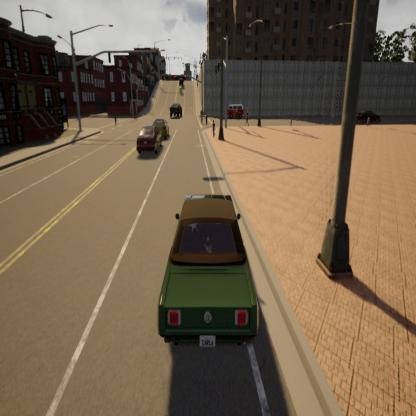Cars: (155, 186, 264, 359), (136, 123, 163, 156), (350, 106, 385, 127), (152, 117, 172, 142), (168, 97, 184, 124), (226, 102, 246, 120), (176, 74, 185, 86), (177, 85, 184, 95)
Pedestrian: (243, 102, 251, 128), (211, 115, 217, 140), (197, 107, 205, 124), (113, 110, 119, 129), (366, 114, 372, 132), (204, 109, 209, 128)
